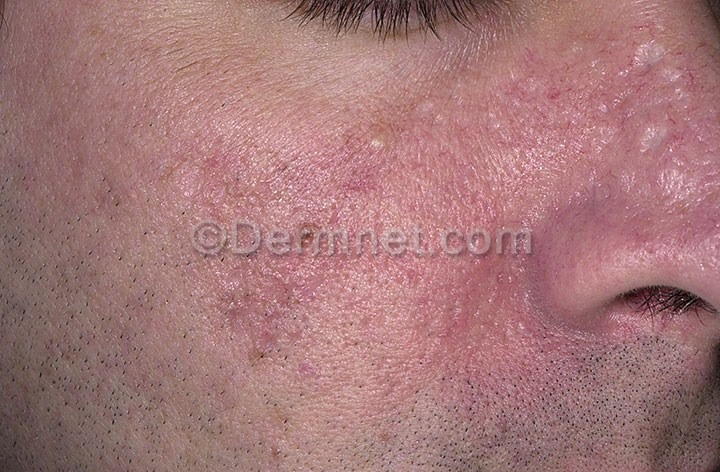Acne: (41, 40, 693, 353)
